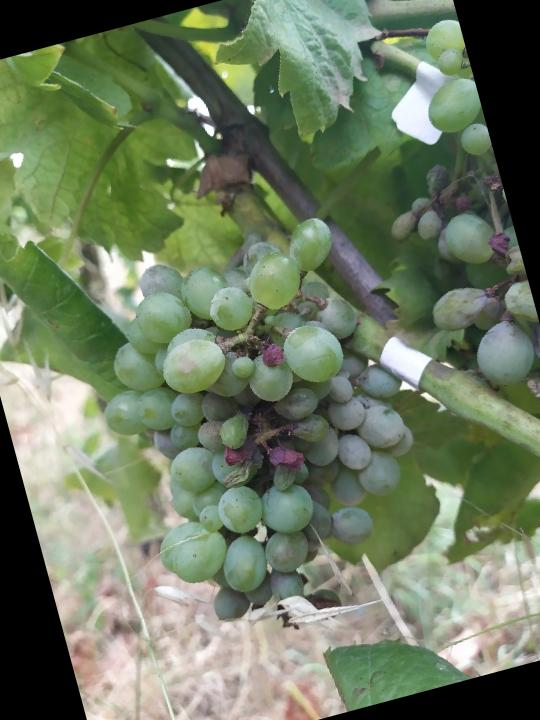grape: (62, 203, 453, 645)
